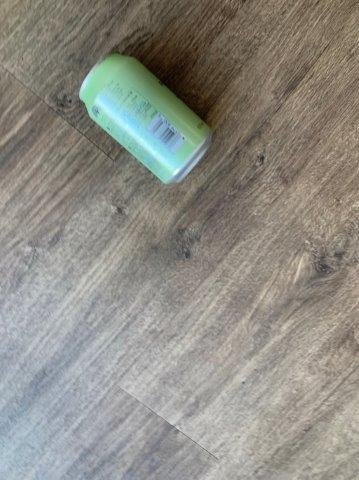kaleng: (79, 56, 211, 181)
